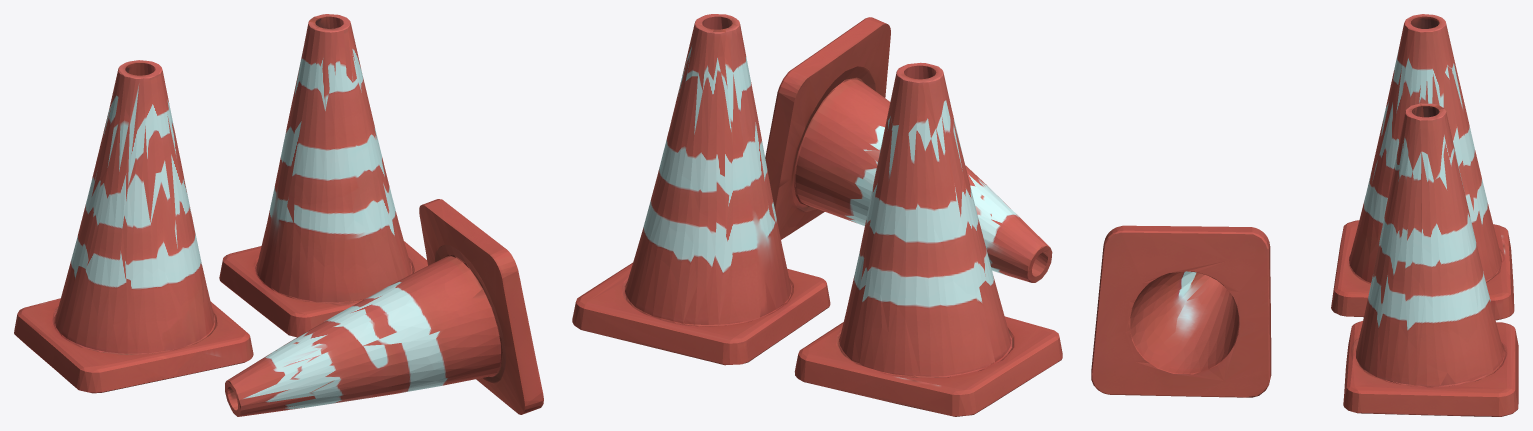
The model's file is traffic_cones.glb.
The picture shows the model from 3 angles, left to right: view 1: azimuth 30°, elevation 25°; view 2: azimuth 150°, elevation 25°; view 3: azimuth 270°, elevation 25°; orthographic projection. The views are drawn at different scales.
Parts seen in each view (by area): view 1: traffic_cones; view 2: traffic_cones; view 3: traffic_cones.
Boxes of the visible parts, x1,y1,x2,y2 form: traffic_cones: (14, 14, 543, 416); traffic_cones: (572, 14, 1062, 416); traffic_cones: (1091, 14, 1518, 416).
Bounding box in the file's own units: 1.01 × 0.7 × 1.02.
Materials: 1 (1 with a texture image).
